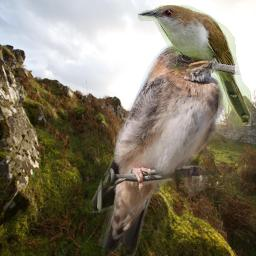Cuckoo: (138, 5, 251, 126)
Swallow: (89, 40, 227, 256)
